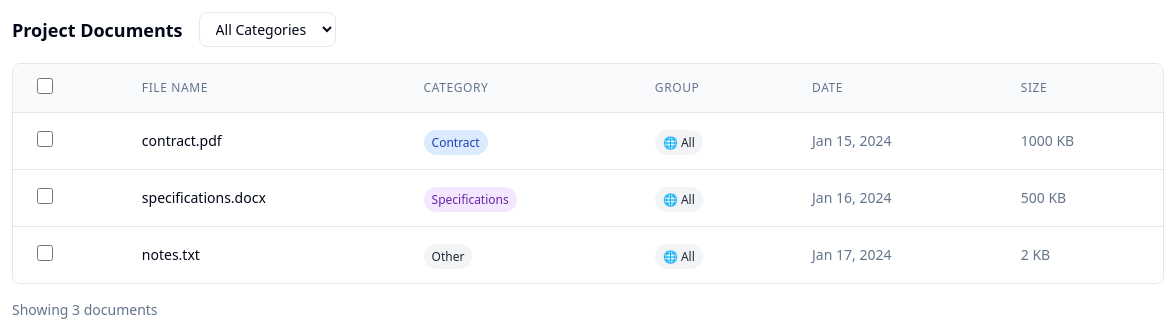
Scenario: DocumentList › should filter documents by category
This screenshot has width=1164, height=336.
// Get the category filter select (it comes before the visibility toggles)
Select "Contracts" in the dropdown: (267,30) left=199, top=12, right=336, bottom=47
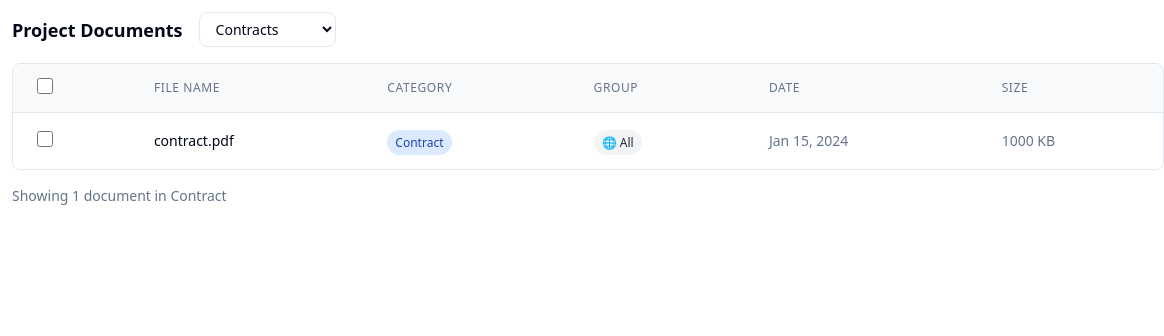
Expected: the text "contract.pdf" is shown, left=154, top=131, right=234, bottom=151
Result: the text "specifications.docx" is gone
Result: the text "notes.txt" is gone
